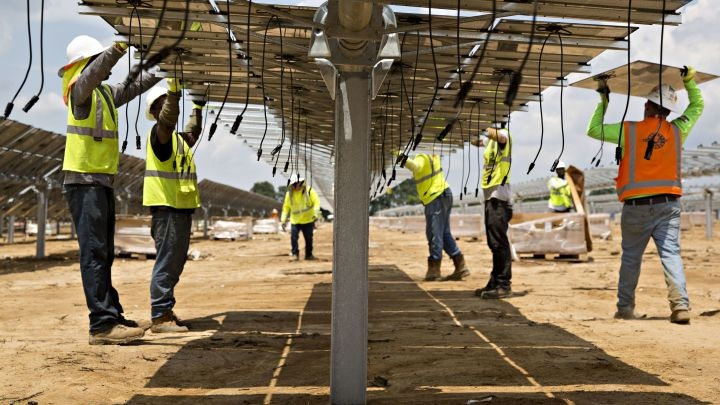white: (63, 32, 111, 82), (640, 83, 678, 120), (143, 86, 180, 122), (287, 171, 305, 191), (553, 159, 567, 176)
